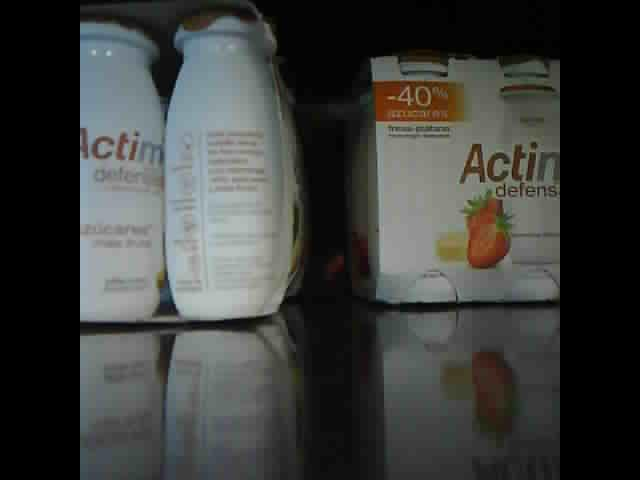actimel: (79, 1, 310, 328), (343, 50, 559, 307)
